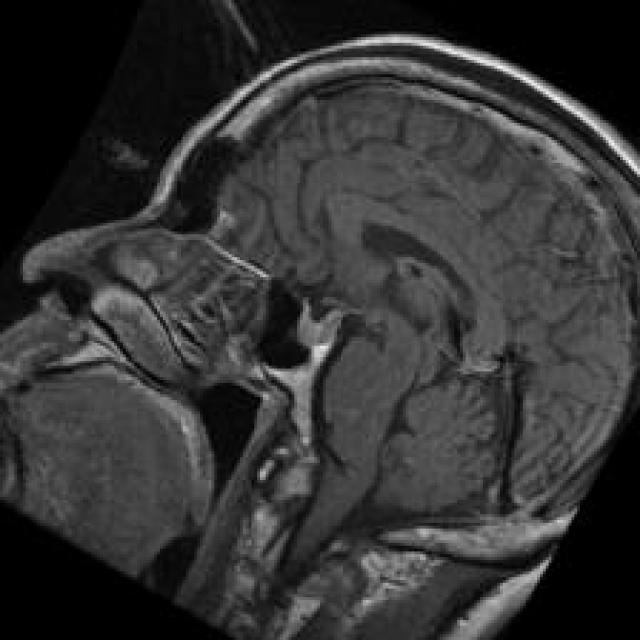pituitary_tumor: (281, 283, 367, 376)
